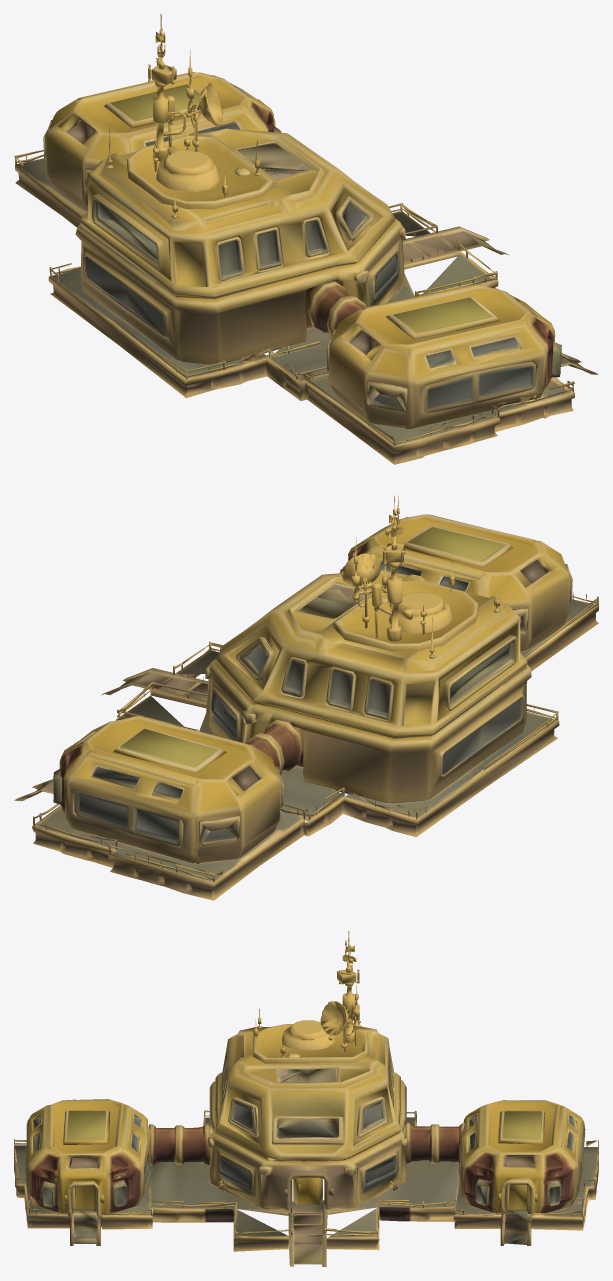
3 views of the same model, one above another, from view 1: azimuth 30°, elevation 25°; view 2: azimuth 150°, elevation 25°; view 3: azimuth 270°, elevation 25° (orthographic). The views are drawn at different scales.
Visible parts, largest first — view 1: tripo_node_32932f9f-0b40-448b-a2f1-66be402ba365; view 2: tripo_node_32932f9f-0b40-448b-a2f1-66be402ba365; view 3: tripo_node_32932f9f-0b40-448b-a2f1-66be402ba365.
Part boxes in pixels (left/top/right/bottom): tripo_node_32932f9f-0b40-448b-a2f1-66be402ba365: left=14, top=14, right=598, bottom=464; tripo_node_32932f9f-0b40-448b-a2f1-66be402ba365: left=14, top=495, right=598, bottom=900; tripo_node_32932f9f-0b40-448b-a2f1-66be402ba365: left=14, top=931, right=598, bottom=1266.
Bounding box in the file's own units: 1.4 × 1.04 × 2.43.
Materials: 1 (1 with a texture image).
